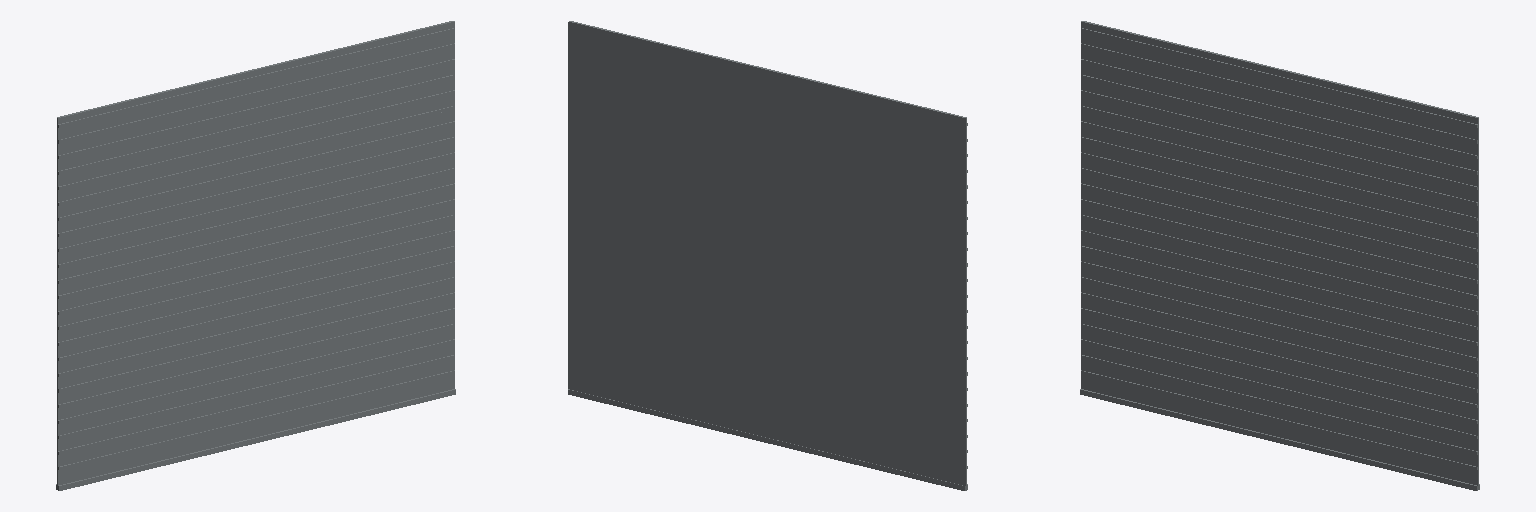
robot.urdf — nova_environment_object_0137:
<?xml version="1.0" encoding="utf-8"?>
<!-- Nova movable environment body for the bundled PyBullet launcher. SI metres/kg/radians. Loaded at its body origin; hinge/slider bodies use a fixed world_anchor base with one passive joint. Inertia is about COM. -->
<robot name="nova_environment_object_0137">
  <link name="world_anchor">
    <inertial>
      <mass value="0" />
      <inertia ixx="0" iyy="0" izz="0" ixy="0" ixz="0" iyz="0" />
    </inertial>
  </link>
  <joint name="joint" type="prismatic">
    <parent link="world_anchor" />
    <child link="body" />
    <origin xyz="0 0 0" rpy="0 0 0" />
    <axis xyz="0 0 1" />
    <limit lower="0" upper="3" effort="1000" velocity="10" />
    <dynamics damping="2" friction="1" />
  </joint>
  <link name="body">
    <inertial>
      <origin xyz="0 0 0" rpy="0 0 0" />
      <mass value="2.5" />
      <inertia ixx="2.68544271" iyy="6.01835417" izz="3.33375521" ixy="0" ixz="0" iyz="0" />
    </inertial>
    <visual>
      <origin xyz="0 0 0" rpy="0 0 0" />
      <geometry>
        <mesh filename="object_0137.obj" />
      </geometry>
      <material name="surface">
        <color rgba="0.52 0.54 0.55 1" />
      </material>
    </visual>
    <collision>
      <origin xyz="0 0 0" rpy="0 0 0" />
      <geometry>
        <mesh filename="object_0137_auto_00.obj" />
      </geometry>
    </collision>
    <collision>
      <origin xyz="0 0 0" rpy="0 0 0" />
      <geometry>
        <mesh filename="object_0137_auto_01.obj" />
      </geometry>
    </collision>
    <collision>
      <origin xyz="0 0 0" rpy="0 0 0" />
      <geometry>
        <mesh filename="object_0137_auto_02.obj" />
      </geometry>
    </collision>
    <collision>
      <origin xyz="0 0 0" rpy="0 0 0" />
      <geometry>
        <mesh filename="object_0137_auto_03.obj" />
      </geometry>
    </collision>
    <collision>
      <origin xyz="0 0 0" rpy="0 0 0" />
      <geometry>
        <mesh filename="object_0137_auto_04.obj" />
      </geometry>
    </collision>
    <collision>
      <origin xyz="0 0 0" rpy="0 0 0" />
      <geometry>
        <mesh filename="object_0137_auto_05.obj" />
      </geometry>
    </collision>
    <collision>
      <origin xyz="0 0 0" rpy="0 0 0" />
      <geometry>
        <mesh filename="object_0137_auto_06.obj" />
      </geometry>
    </collision>
    <collision>
      <origin xyz="0 0 0" rpy="0 0 0" />
      <geometry>
        <mesh filename="object_0137_auto_07.obj" />
      </geometry>
    </collision>
    <collision>
      <origin xyz="0 0 0" rpy="0 0 0" />
      <geometry>
        <mesh filename="object_0137_auto_08.obj" />
      </geometry>
    </collision>
    <collision>
      <origin xyz="0 0 0" rpy="0 0 0" />
      <geometry>
        <mesh filename="object_0137_auto_09.obj" />
      </geometry>
    </collision>
    <collision>
      <origin xyz="0 0 0" rpy="0 0 0" />
      <geometry>
        <mesh filename="object_0137_auto_10.obj" />
      </geometry>
    </collision>
    <collision>
      <origin xyz="0 0 0" rpy="0 0 0" />
      <geometry>
        <mesh filename="object_0137_auto_11.obj" />
      </geometry>
    </collision>
    <collision>
      <origin xyz="0 0 0" rpy="0 0 0" />
      <geometry>
        <mesh filename="object_0137_auto_12.obj" />
      </geometry>
    </collision>
    <collision>
      <origin xyz="0 0 0" rpy="0 0 0" />
      <geometry>
        <mesh filename="object_0137_auto_13.obj" />
      </geometry>
    </collision>
    <collision>
      <origin xyz="0 0 0" rpy="0 0 0" />
      <geometry>
        <mesh filename="object_0137_auto_14.obj" />
      </geometry>
    </collision>
    <collision>
      <origin xyz="0 0 0" rpy="0 0 0" />
      <geometry>
        <mesh filename="object_0137_auto_15.obj" />
      </geometry>
    </collision>
    <collision>
      <origin xyz="0 0 0" rpy="0 0 0" />
      <geometry>
        <mesh filename="object_0137_auto_16.obj" />
      </geometry>
    </collision>
    <collision>
      <origin xyz="0 0 0" rpy="0 0 0" />
      <geometry>
        <mesh filename="object_0137_auto_17.obj" />
      </geometry>
    </collision>
    <collision>
      <origin xyz="0 0 0" rpy="0 0 0" />
      <geometry>
        <mesh filename="object_0137_auto_18.obj" />
      </geometry>
    </collision>
    <collision>
      <origin xyz="0 0 0" rpy="0 0 0" />
      <geometry>
        <mesh filename="object_0137_auto_19.obj" />
      </geometry>
    </collision>
    <collision>
      <origin xyz="0 0 0" rpy="0 0 0" />
      <geometry>
        <mesh filename="object_0137_auto_20.obj" />
      </geometry>
    </collision>
    <collision>
      <origin xyz="0 0 0" rpy="0 0 0" />
      <geometry>
        <mesh filename="object_0137_auto_21.obj" />
      </geometry>
    </collision>
    <collision>
      <origin xyz="0 0 0" rpy="0 0 0" />
      <geometry>
        <mesh filename="object_0137_auto_22.obj" />
      </geometry>
    </collision>
    <collision>
      <origin xyz="0 0 0" rpy="0 0 0" />
      <geometry>
        <mesh filename="object_0137_auto_23.obj" />
      </geometry>
    </collision>
    <collision>
      <origin xyz="0 0 0" rpy="0 0 0" />
      <geometry>
        <mesh filename="object_0137_auto_24.obj" />
      </geometry>
    </collision>
  </link>
</robot>

--- Render facts (derived) ---
Views: 3 orthographic renders of the robot side by side, from view 1: azimuth 30°, elevation 25°; view 2: azimuth 150°, elevation 25°; view 3: azimuth 330°, elevation 25°.
Robot: nova_environment_object_0137 — 2 links, 1 joints (1 prismatic); root link world_anchor; default pose: all joints at 0.
Links seen in each view (by area): view 1: body; view 2: body; view 3: body.
Boxes of the visible links, x1,y1,x2,y2 form: body: (56,21,455,490); body: (568,21,967,490); body: (1080,21,1479,490).
Bounding box of the posed robot: 4 × 0.045 × 3.59 m (x, y, z).
1 mesh visuals loaded from 1 distinct referenced files (1 OBJ).
